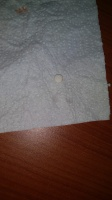Yuvarlak Buskopan: (54, 73, 64, 84)
